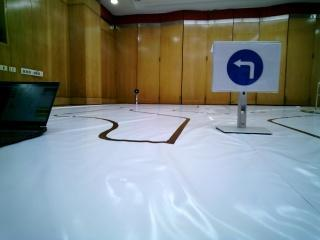left: (214, 42, 282, 93)
